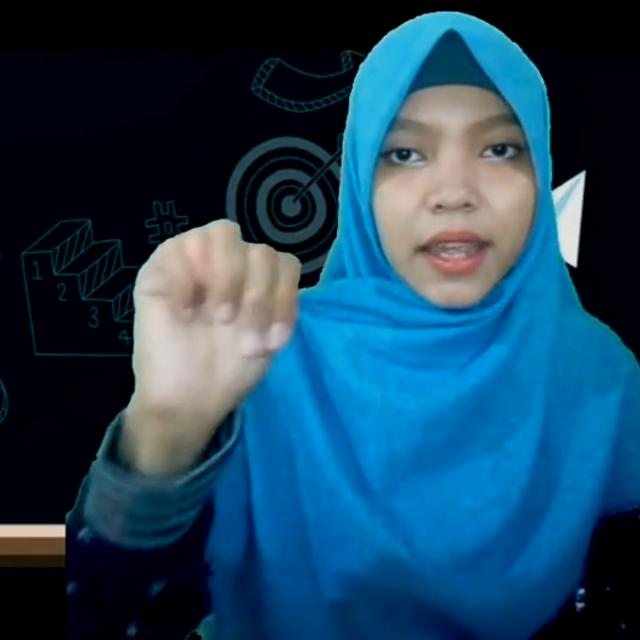M: (126, 216, 310, 408)
